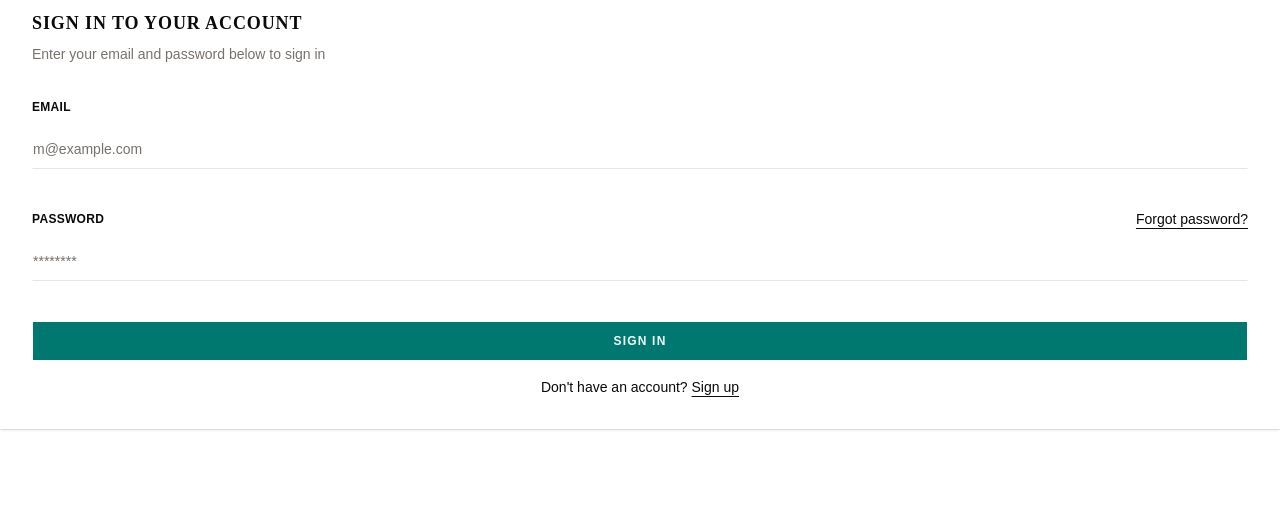
LoginForm › shows a server error message when sign-in fails
This screenshot has width=1280, height=507.
Type "user@example.com" into the field labelled "Email" at (640, 149), box [32,129,1248,169]
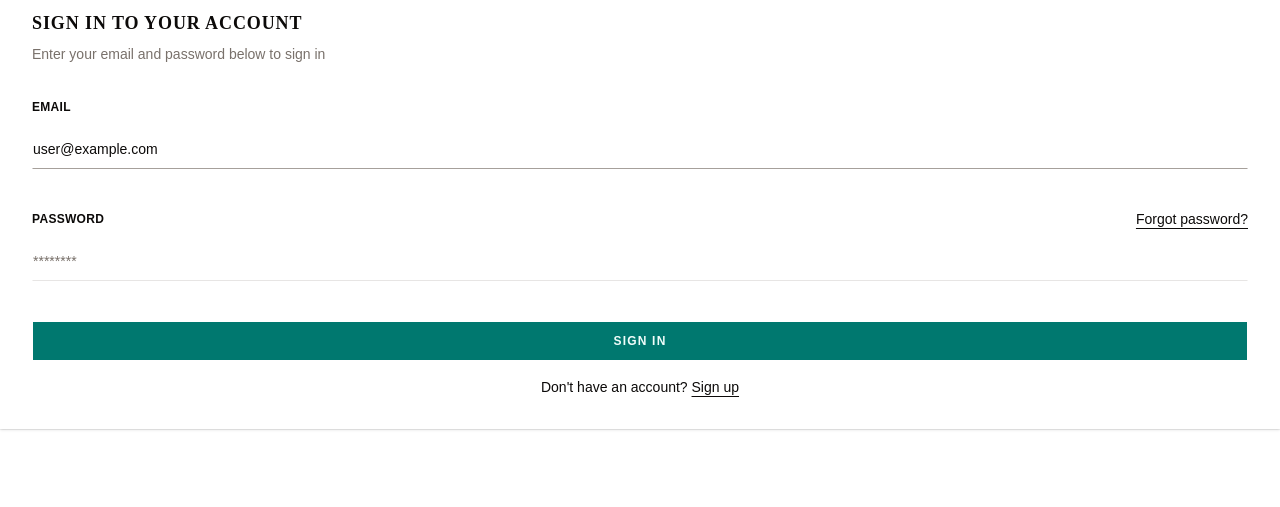
Type "wrongpass" into the password field labelled "Password" at (640, 261), box [32,241,1248,281]
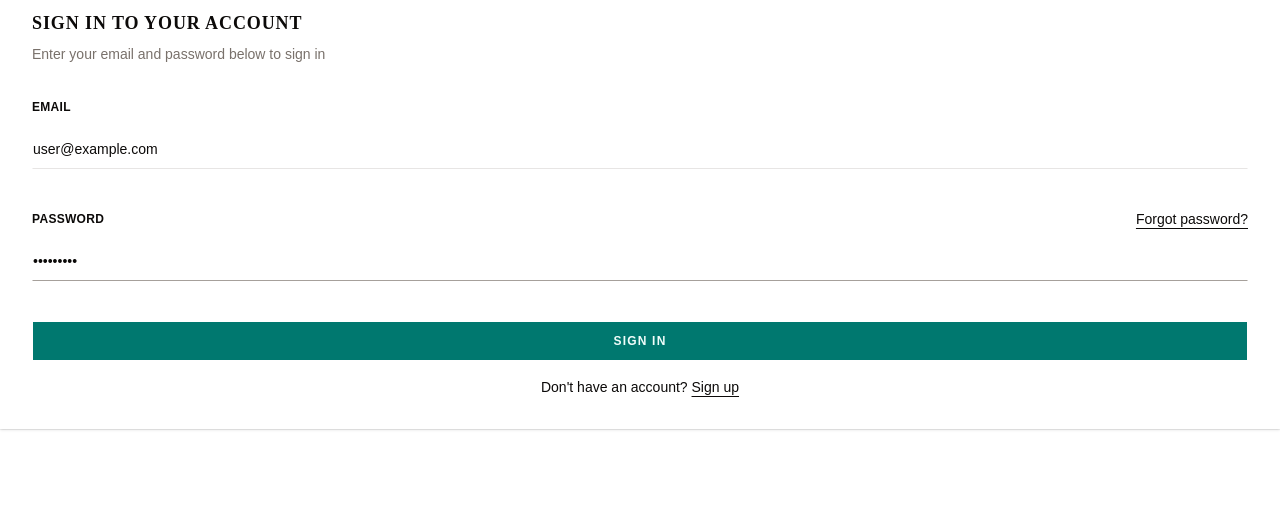
Click the button "Sign in" at (640, 341), box [32,321,1248,361]
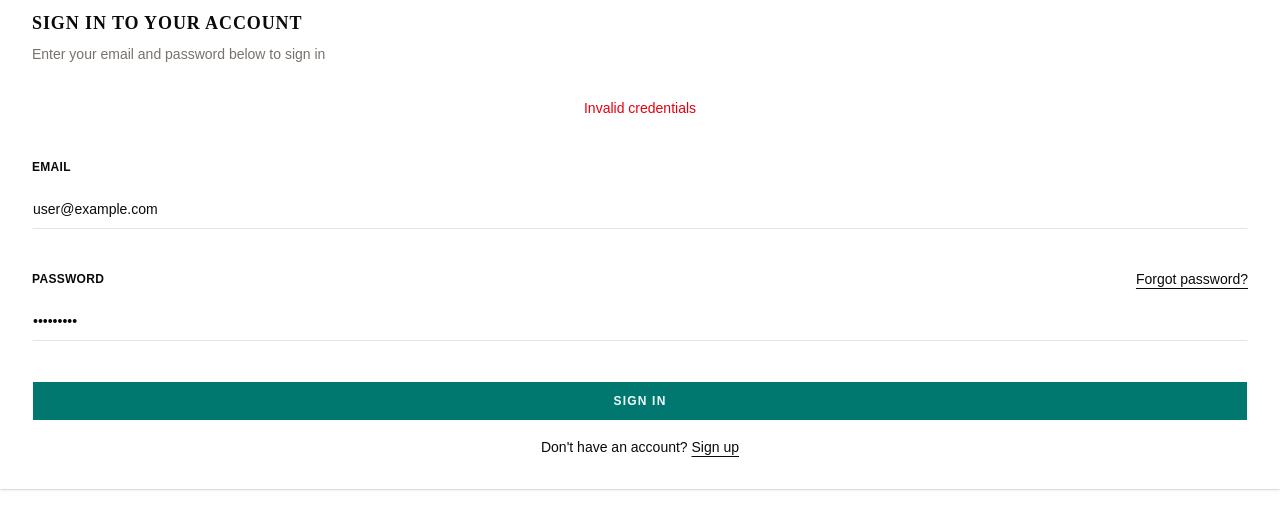
Expected: the text "Invalid credentials" is shown, [584,100,696,116]
